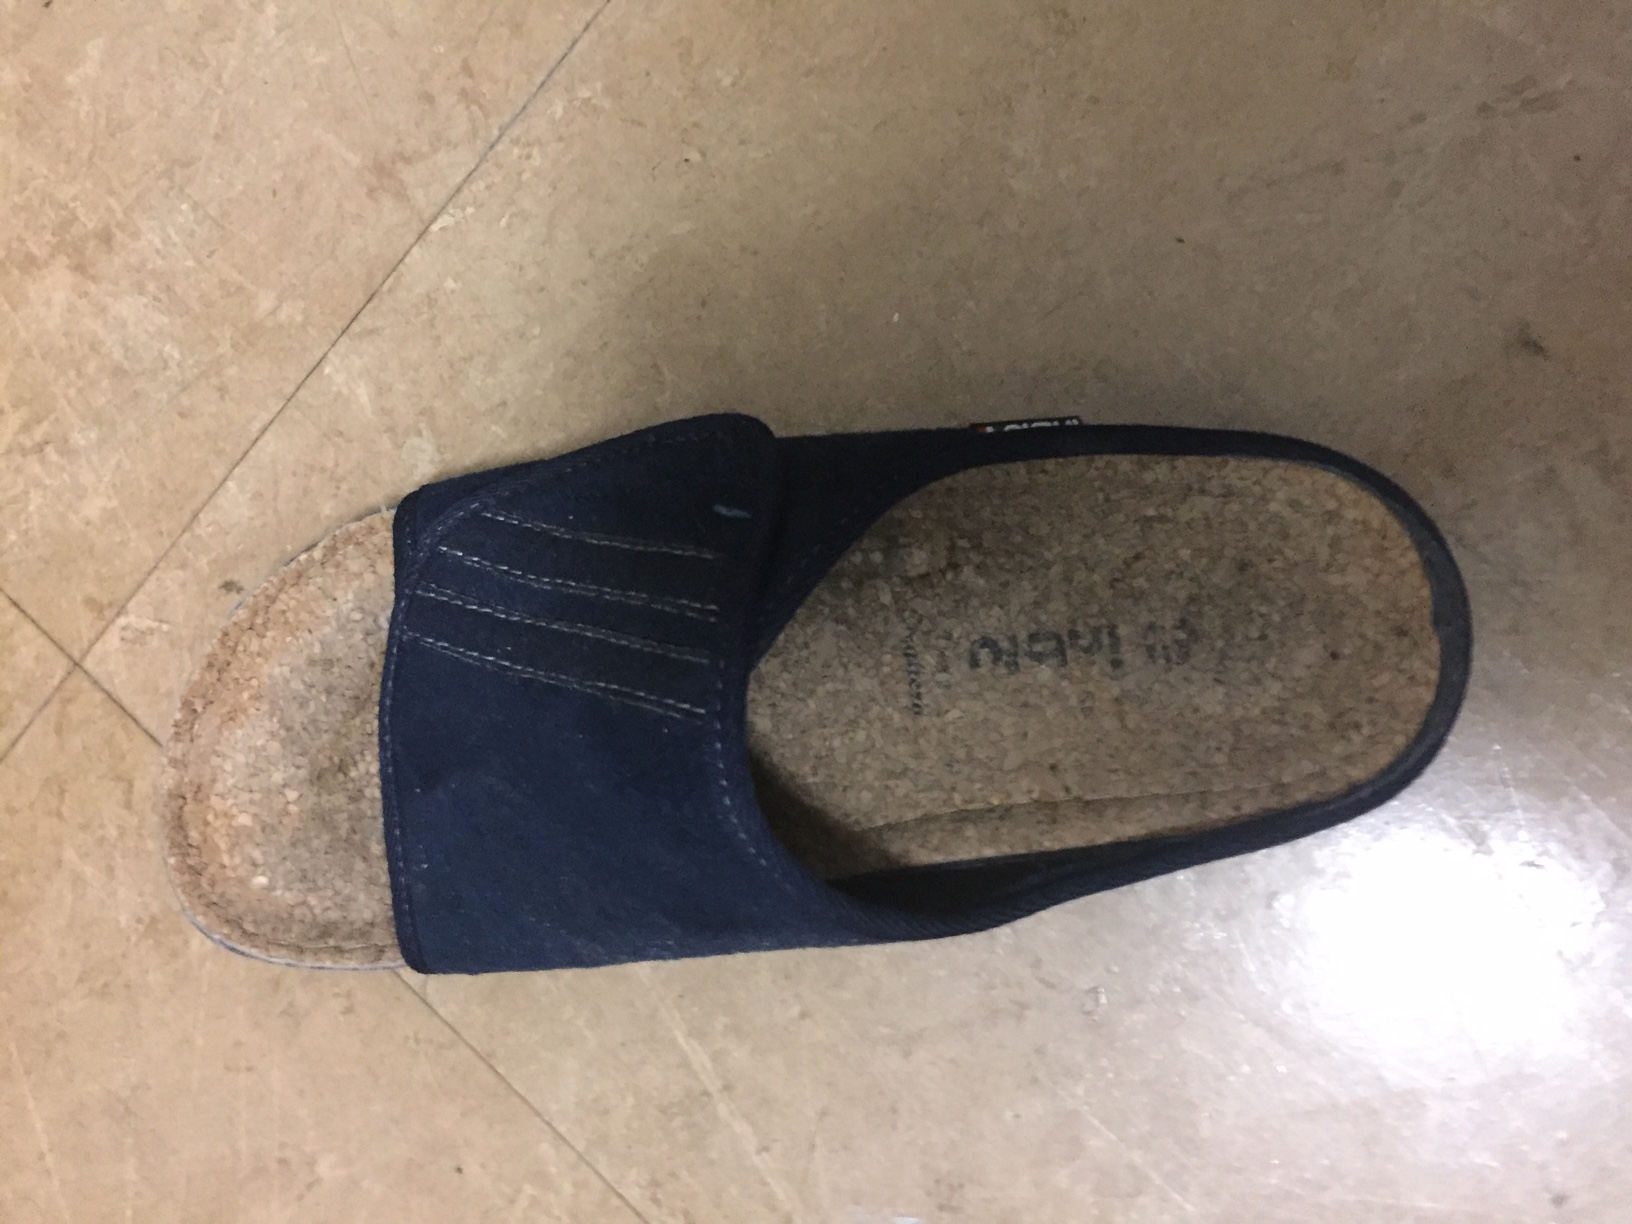car: (157, 410, 1480, 977)
